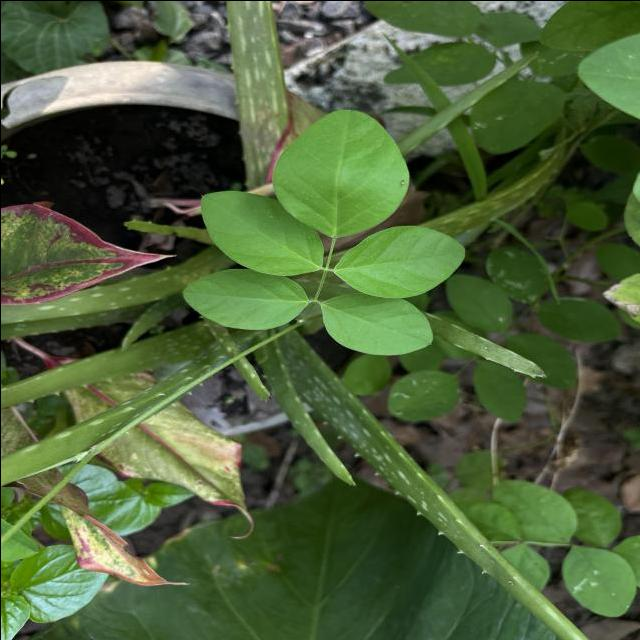Clitoria ternatea: (270, 107, 410, 238), (200, 188, 326, 276), (332, 224, 466, 298), (182, 267, 310, 330), (318, 291, 434, 356)
